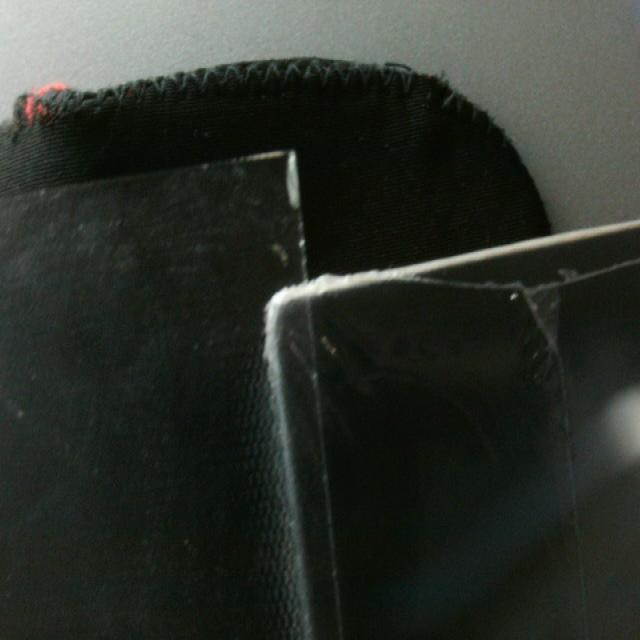edge_chip: (268, 135, 306, 225)
